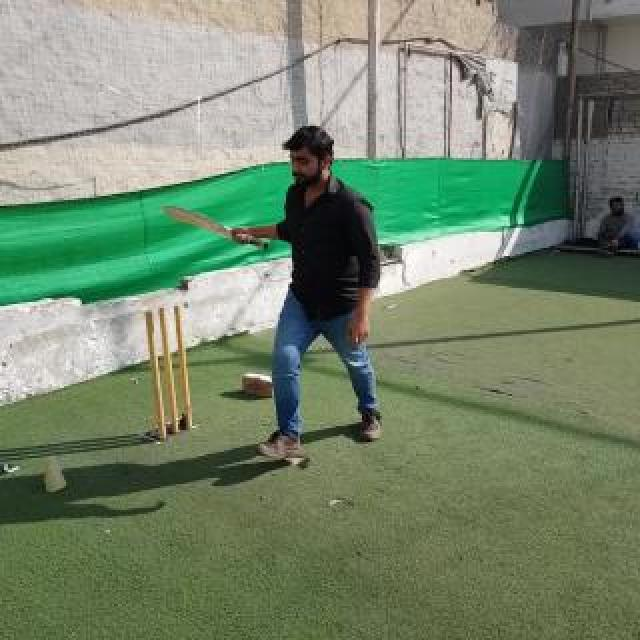bat: (162, 204, 270, 250)
